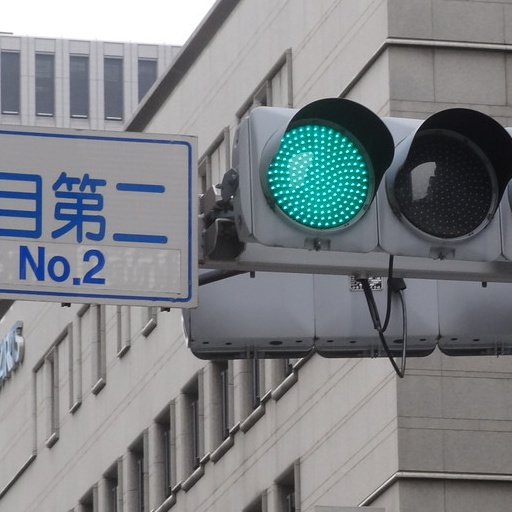Traffic_Signal_Blue: (248, 89, 511, 254)
